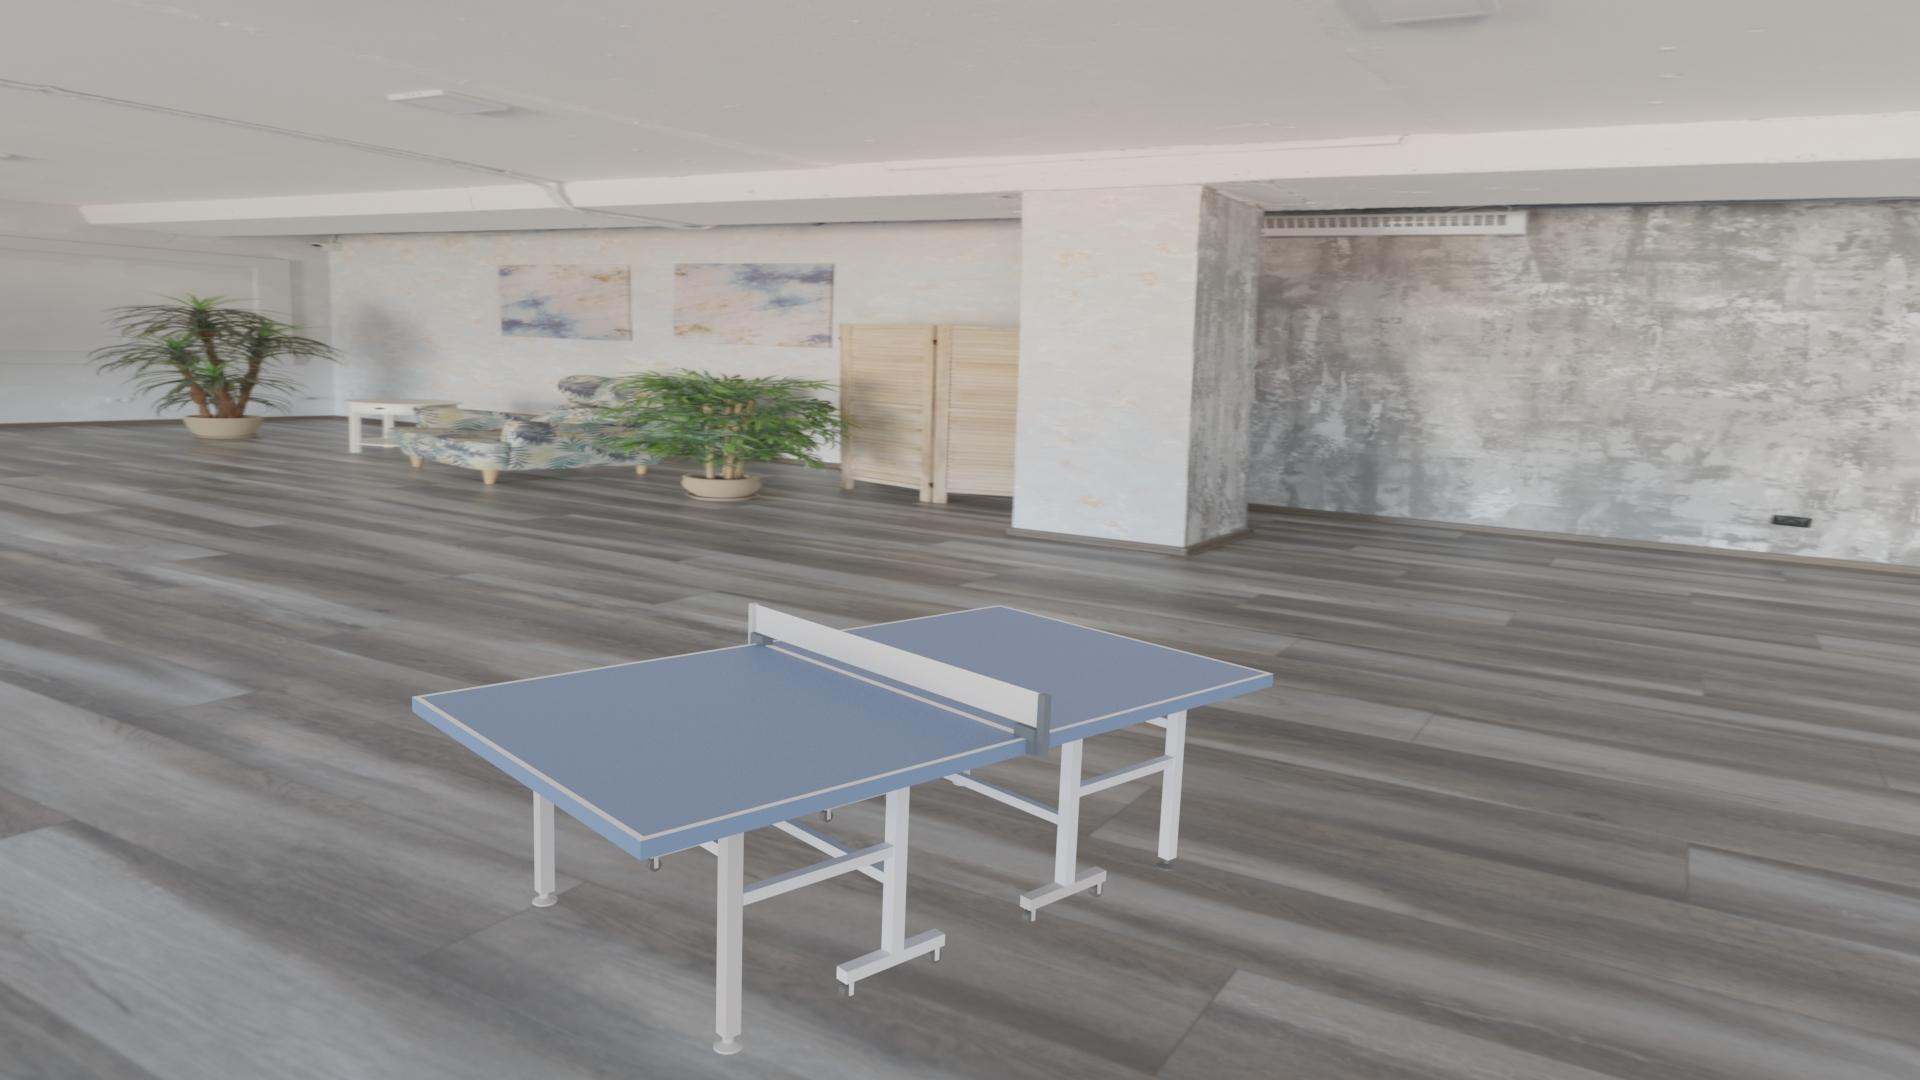table: (421, 607, 1266, 836)
